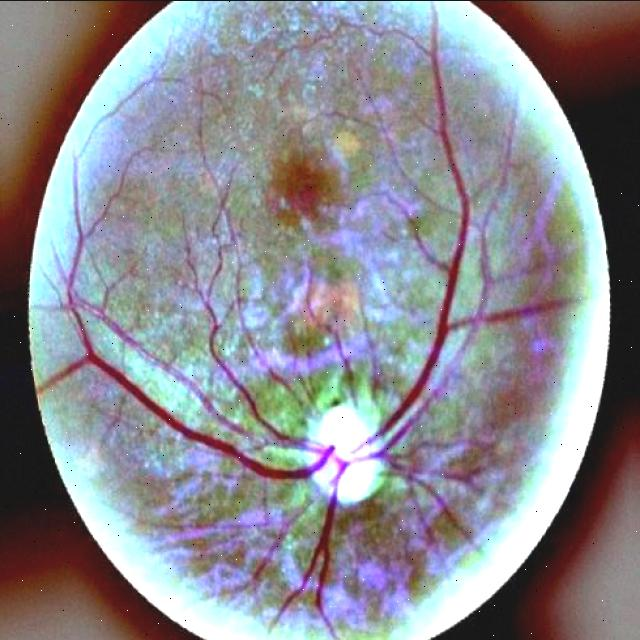Macula: (276, 157, 330, 217)
Nerves: (38, 0, 567, 636)
Optic Disk: (300, 400, 385, 504)
